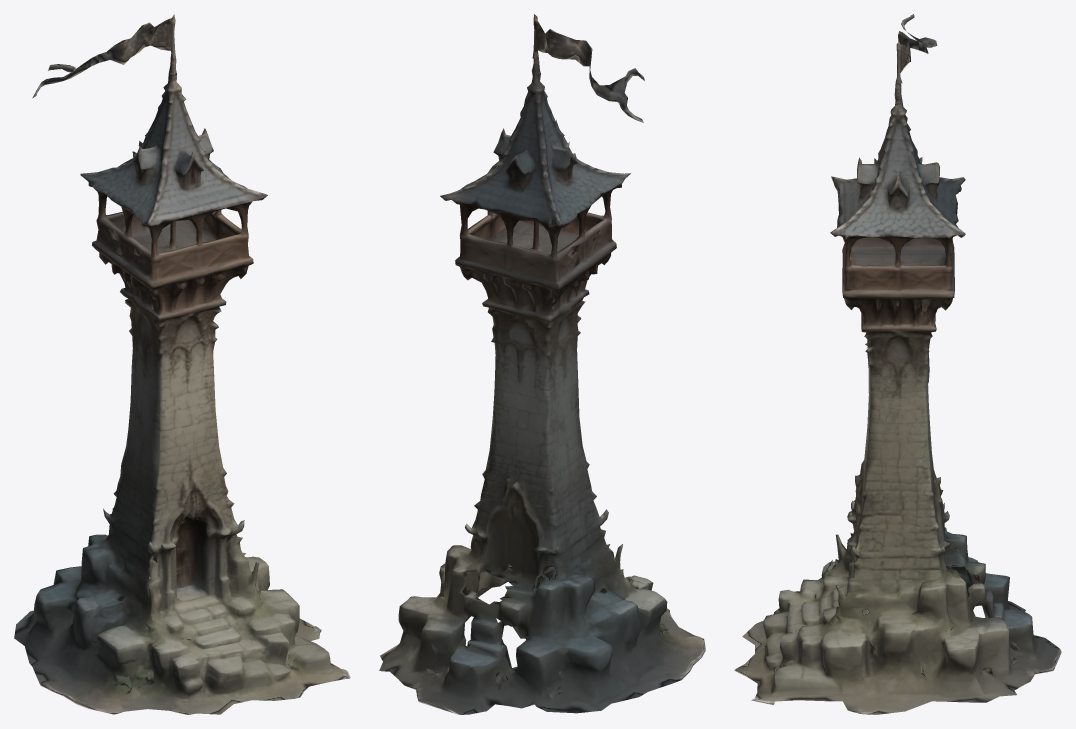
File: watchtower.glb
3 views of the same model, side by side, from view 1: azimuth 30°, elevation 25°; view 2: azimuth 150°, elevation 25°; view 3: azimuth 270°, elevation 25° (orthographic). The views are drawn at different scales.
Visible parts, largest first — view 1: geometry_0; view 2: geometry_0; view 3: geometry_0.
Part boxes in pixels (x1=…): geometry_0: x1=14, y1=14, x2=350, y2=714; geometry_0: x1=379, y1=14, x2=705, y2=714; geometry_0: x1=734, y1=14, x2=1061, y2=714.
Bounding box in the file's own units: 0.4378 × 0.9891 × 0.4786.
1 material, 1 textured.
